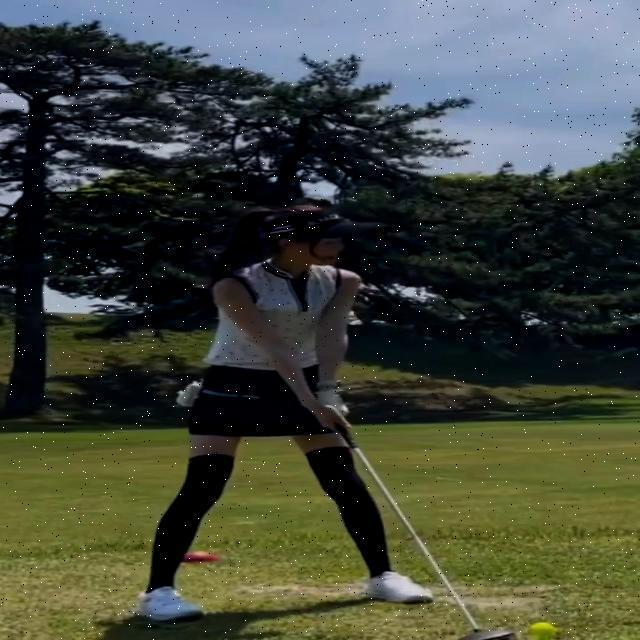ClubHead: (461, 626, 518, 640)
GolfBall: (526, 622, 555, 636)
